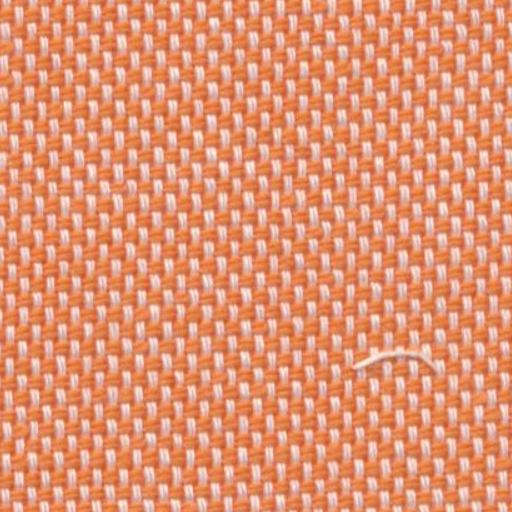DuanSha: (340, 324, 444, 398)
